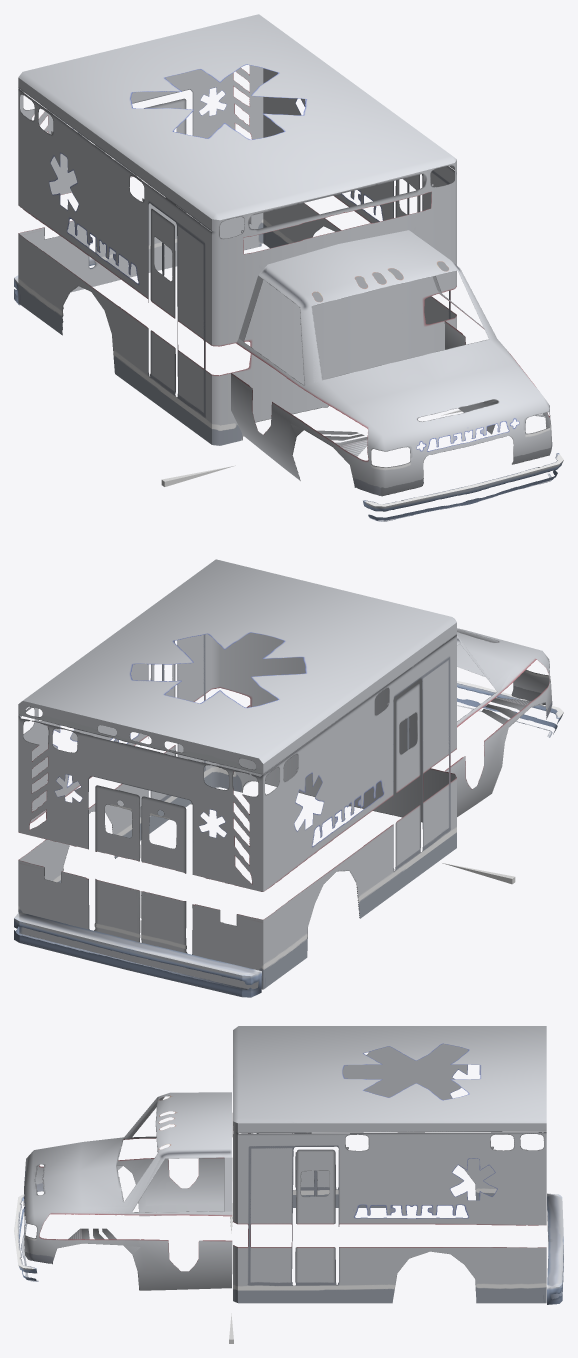
Rendered from Ambulance.FBX.
The picture shows the model from 3 angles, top to bottom: view 1: azimuth 30°, elevation 25°; view 2: azimuth 150°, elevation 25°; view 3: azimuth 270°, elevation 25°; orthographic projection. The views are drawn at different scales.
Parts seen in each view (by area): view 1: Ambulance1bodyLores, Ambulance3BodyDoorCut, DoorR; view 2: Ambulance1bodyLores, Ambulance3BodyDoorCut, DoorR; view 3: Ambulance1bodyLores, Ambulance3BodyDoorCut, DoorR, Ambulance2BodyWindowed, DoorL.
Part boxes in pixels (x1,y1,x2,y2): Ambulance1bodyLores: [14, 14, 563, 521]; Ambulance3BodyDoorCut: [231, 68, 547, 455]; DoorR: [240, 272, 304, 451]; Ambulance1bodyLores: [14, 559, 563, 997]; Ambulance3BodyDoorCut: [20, 561, 521, 882]; DoorR: [453, 727, 500, 779]; Ambulance1bodyLores: [14, 1026, 563, 1304]; Ambulance3BodyDoorCut: [38, 1097, 546, 1302]; DoorR: [126, 1097, 224, 1205]; Ambulance2BodyWindowed: [133, 1095, 232, 1215]; DoorL: [132, 1152, 227, 1271].
Size of what is drawn, in the model's own units: 334 by 232 by 568.
